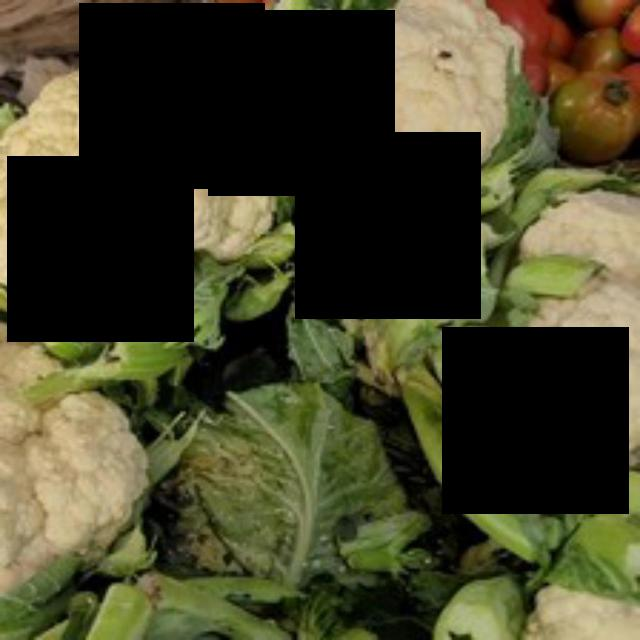cauliflower: (0, 44, 292, 354), (506, 197, 636, 494), (356, 0, 537, 168)
